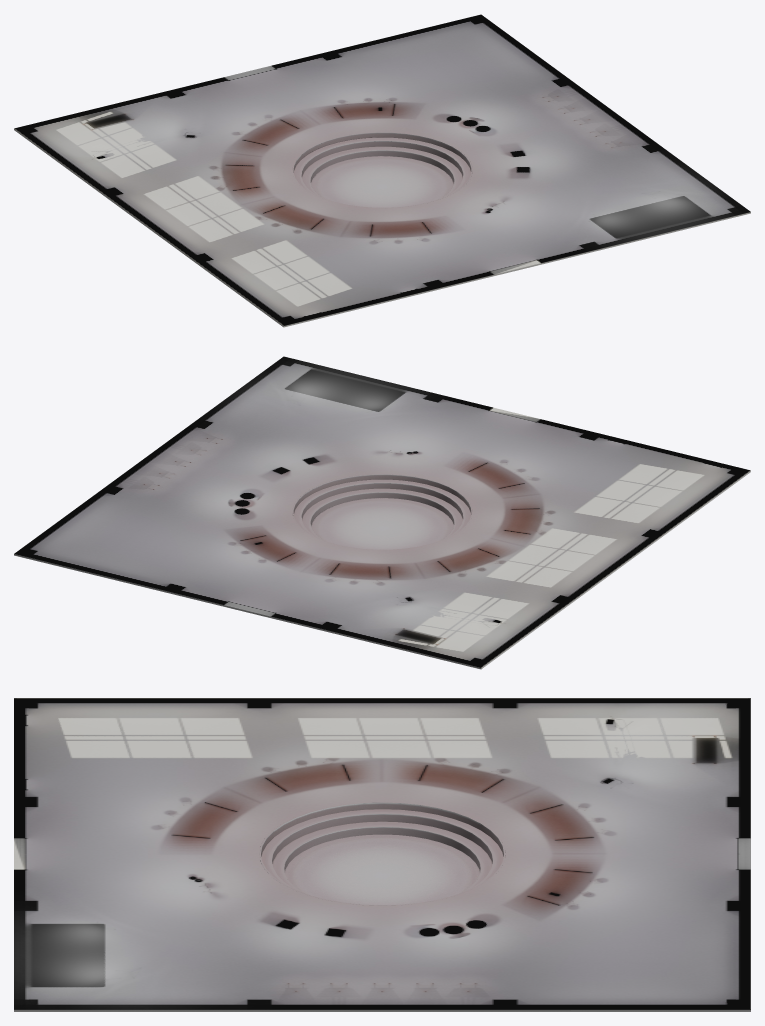
The model's file is 20220601floor.gltf.
The picture shows the model from 3 angles, top to bottom: view 1: azimuth 30°, elevation 25°; view 2: azimuth 150°, elevation 25°; view 3: azimuth 270°, elevation 25°; orthographic projection. The views are drawn at different scales.
Parts seen in each view (by area): view 1: Floor, Collabo Floor, Collabo Stairs; view 2: Floor, Collabo Floor, Collabo Stairs; view 3: Floor, Collabo Floor, Collabo Stairs.
Boxes of the visible parts, left/top/right/bottom form: Floor: left=14, top=14, right=750, bottom=327; Collabo Floor: left=292, top=132, right=472, bottom=207; Collabo Stairs: left=294, top=137, right=470, bottom=198; Floor: left=14, top=356, right=750, bottom=669; Collabo Floor: left=292, top=474, right=472, bottom=549; Collabo Stairs: left=294, top=479, right=470, bottom=540; Floor: left=14, top=698, right=750, bottom=1011; Collabo Floor: left=259, top=802, right=505, bottom=905; Collabo Stairs: left=261, top=809, right=503, bottom=891.
Size of the model in its own units: 30 by 1 by 30.
Materials: 3 (3 with a texture image).
